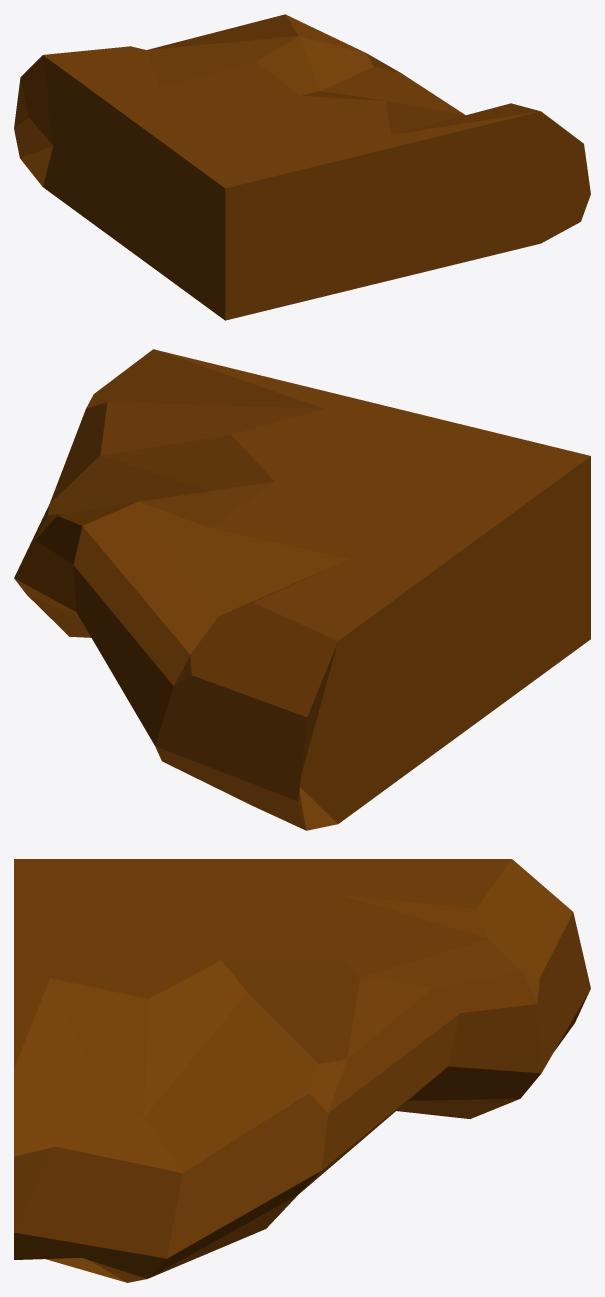
Rendered from DarkRockEdgeMediumExternalCurve1.fbx.
The picture shows the model from 3 angles, top to bottom: view 1: azimuth 30°, elevation 25°; view 2: azimuth 150°, elevation 25°; view 3: azimuth 270°, elevation 25°; orthographic projection. The views are drawn at different scales.
Parts seen in each view (by area): view 1: DarkNaturalRockEdgeMediumExternalCurve_1; view 2: DarkNaturalRockEdgeMediumExternalCurve_1; view 3: DarkNaturalRockEdgeMediumExternalCurve_1.
Boxes of the visible parts, x1=… form: DarkNaturalRockEdgeMediumExternalCurve_1: x1=14, y1=14, x2=590, y2=320; DarkNaturalRockEdgeMediumExternalCurve_1: x1=14, y1=349, x2=590, y2=830; DarkNaturalRockEdgeMediumExternalCurve_1: x1=14, y1=859, x2=590, y2=1282.
Size of the model in its own units: 579 by 258 by 579.
1 material, 1 textured.
